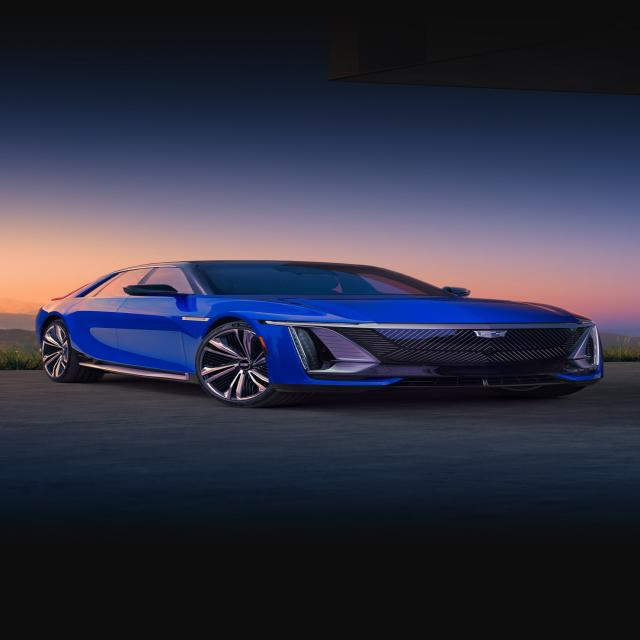car: (25, 232, 633, 430)
